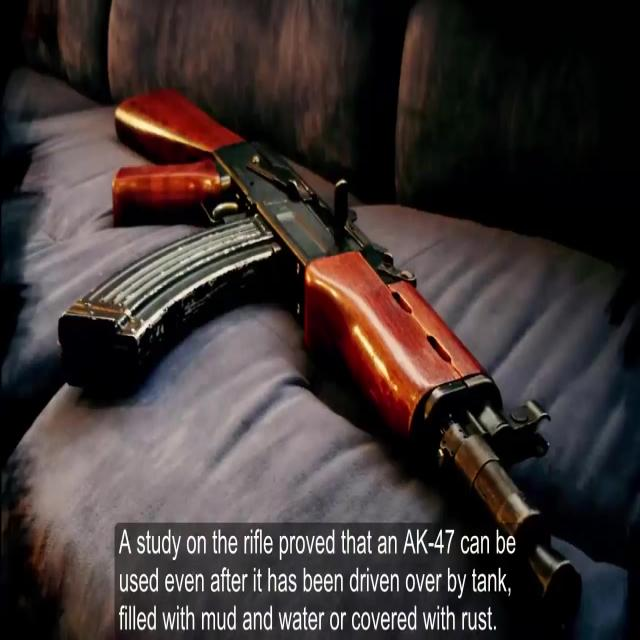Weapon: (45, 39, 591, 640)
